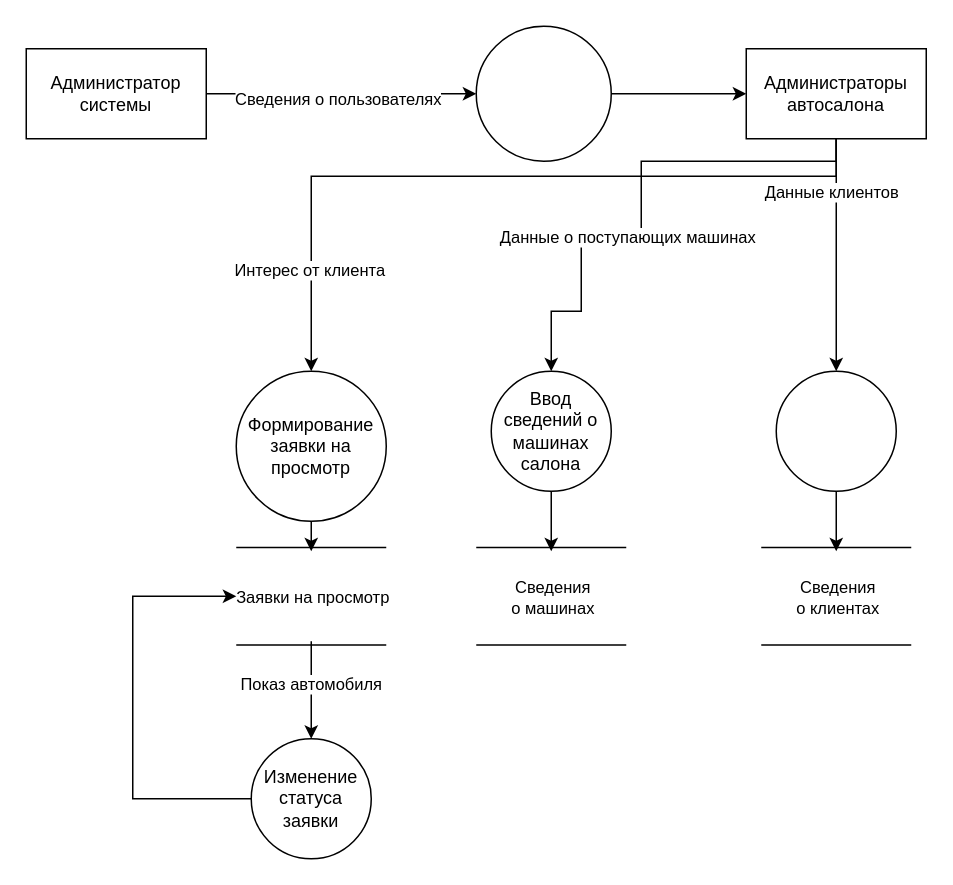
Image size: 953x885. Some labels were removed from this diagram. The shapes that lost their labels are listed below. From the top down, each one's centre as x and y in pixels, then its label:
At point 543,93: "Создание пользователей".
At point 835,430: "Ввод сведений о клиентах".
